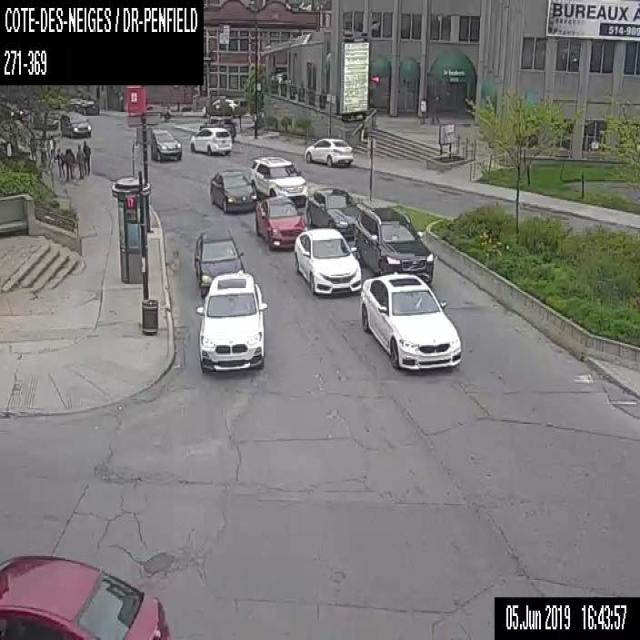pedestrian: (61, 147, 74, 179), (75, 143, 85, 178), (82, 140, 91, 175), (54, 146, 64, 176), (30, 132, 38, 161), (48, 134, 56, 160)
vehicle: (0, 552, 172, 639), (359, 272, 461, 369), (196, 270, 266, 371), (355, 206, 433, 282), (293, 227, 362, 296), (193, 230, 245, 296), (306, 187, 364, 238), (250, 156, 306, 207), (254, 194, 305, 249), (210, 168, 256, 212), (304, 134, 352, 167), (190, 125, 232, 154), (150, 128, 181, 160), (58, 110, 90, 138), (199, 115, 235, 138), (202, 94, 238, 116), (78, 99, 99, 115), (68, 97, 82, 110)
